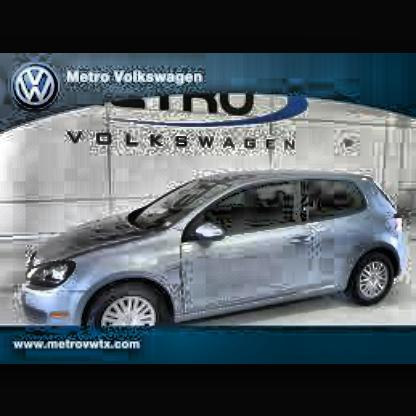Volkswagen Golf Hatchback 2012: (24, 170, 409, 329)
